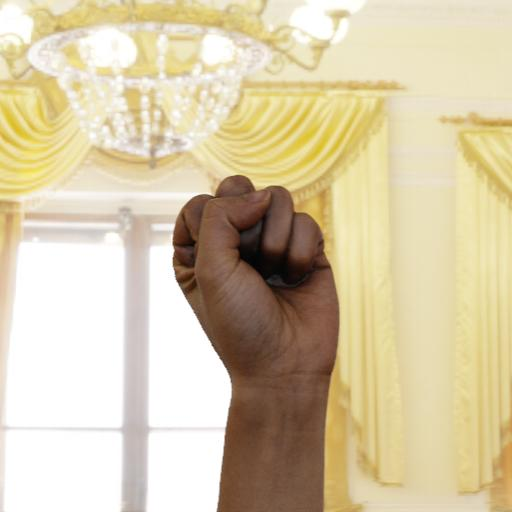S: (163, 169, 357, 413)
